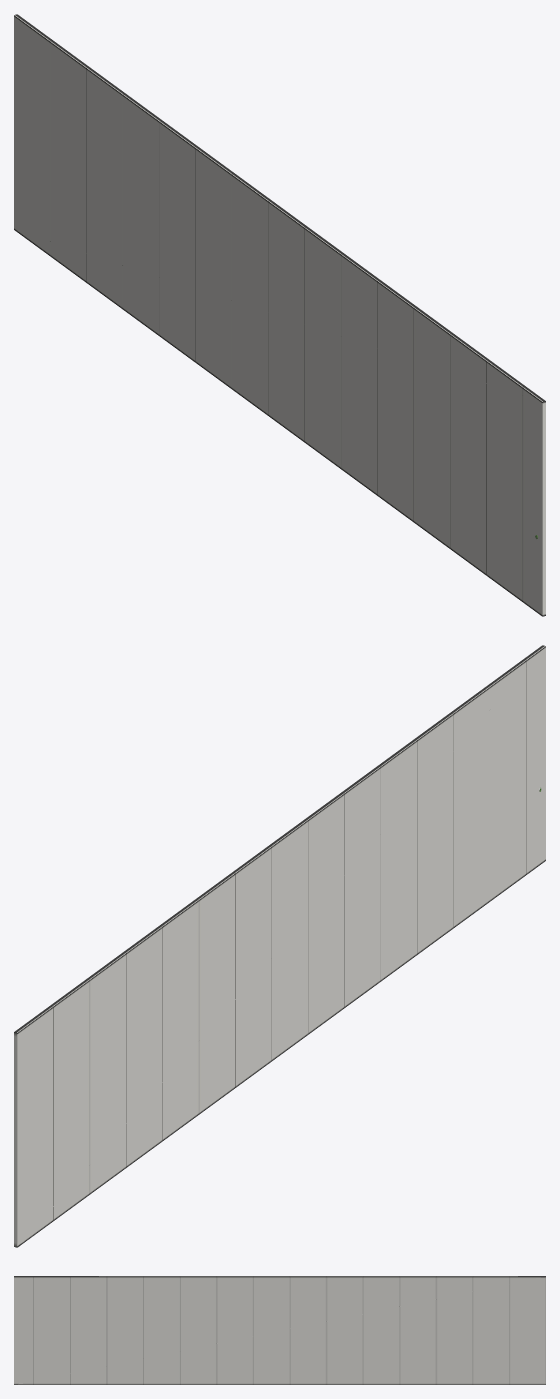
The model's file is Divider12.fbx.
3 renders of one model, top to bottom at view 1: azimuth 30°, elevation 25°; view 2: azimuth 150°, elevation 25°; view 3: azimuth 270°, elevation 25°, orthographic. The views are drawn at different scales.
Visible parts, largest first — view 1: DividerLong.002; view 2: DividerLong.002; view 3: DividerLong.002.
Part boxes in pixels (bbox=[...]): DividerLong.002: bbox=[14, 14, 545, 616]; DividerLong.002: bbox=[14, 645, 545, 1247]; DividerLong.002: bbox=[14, 1276, 545, 1384].
Bounding box in the file's own units: 0.0683 × 3.5 × 15.61.
